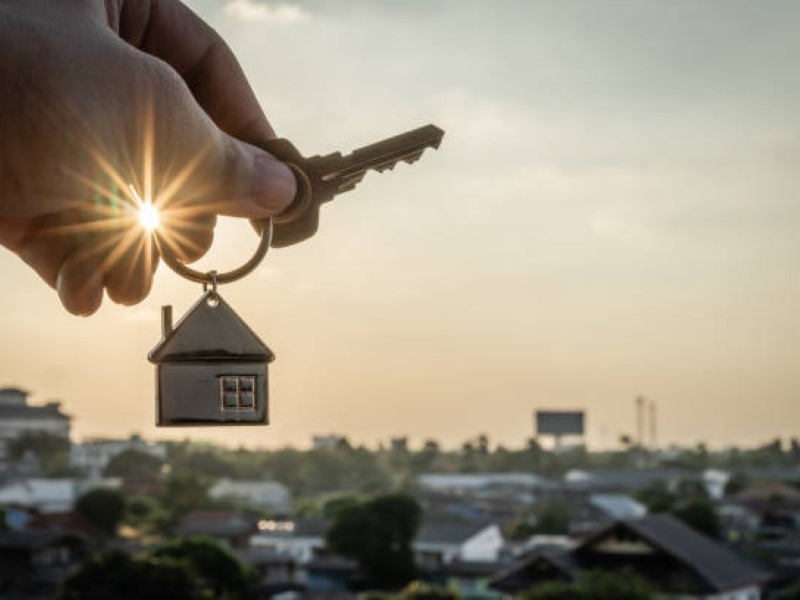key: (238, 119, 447, 251)
